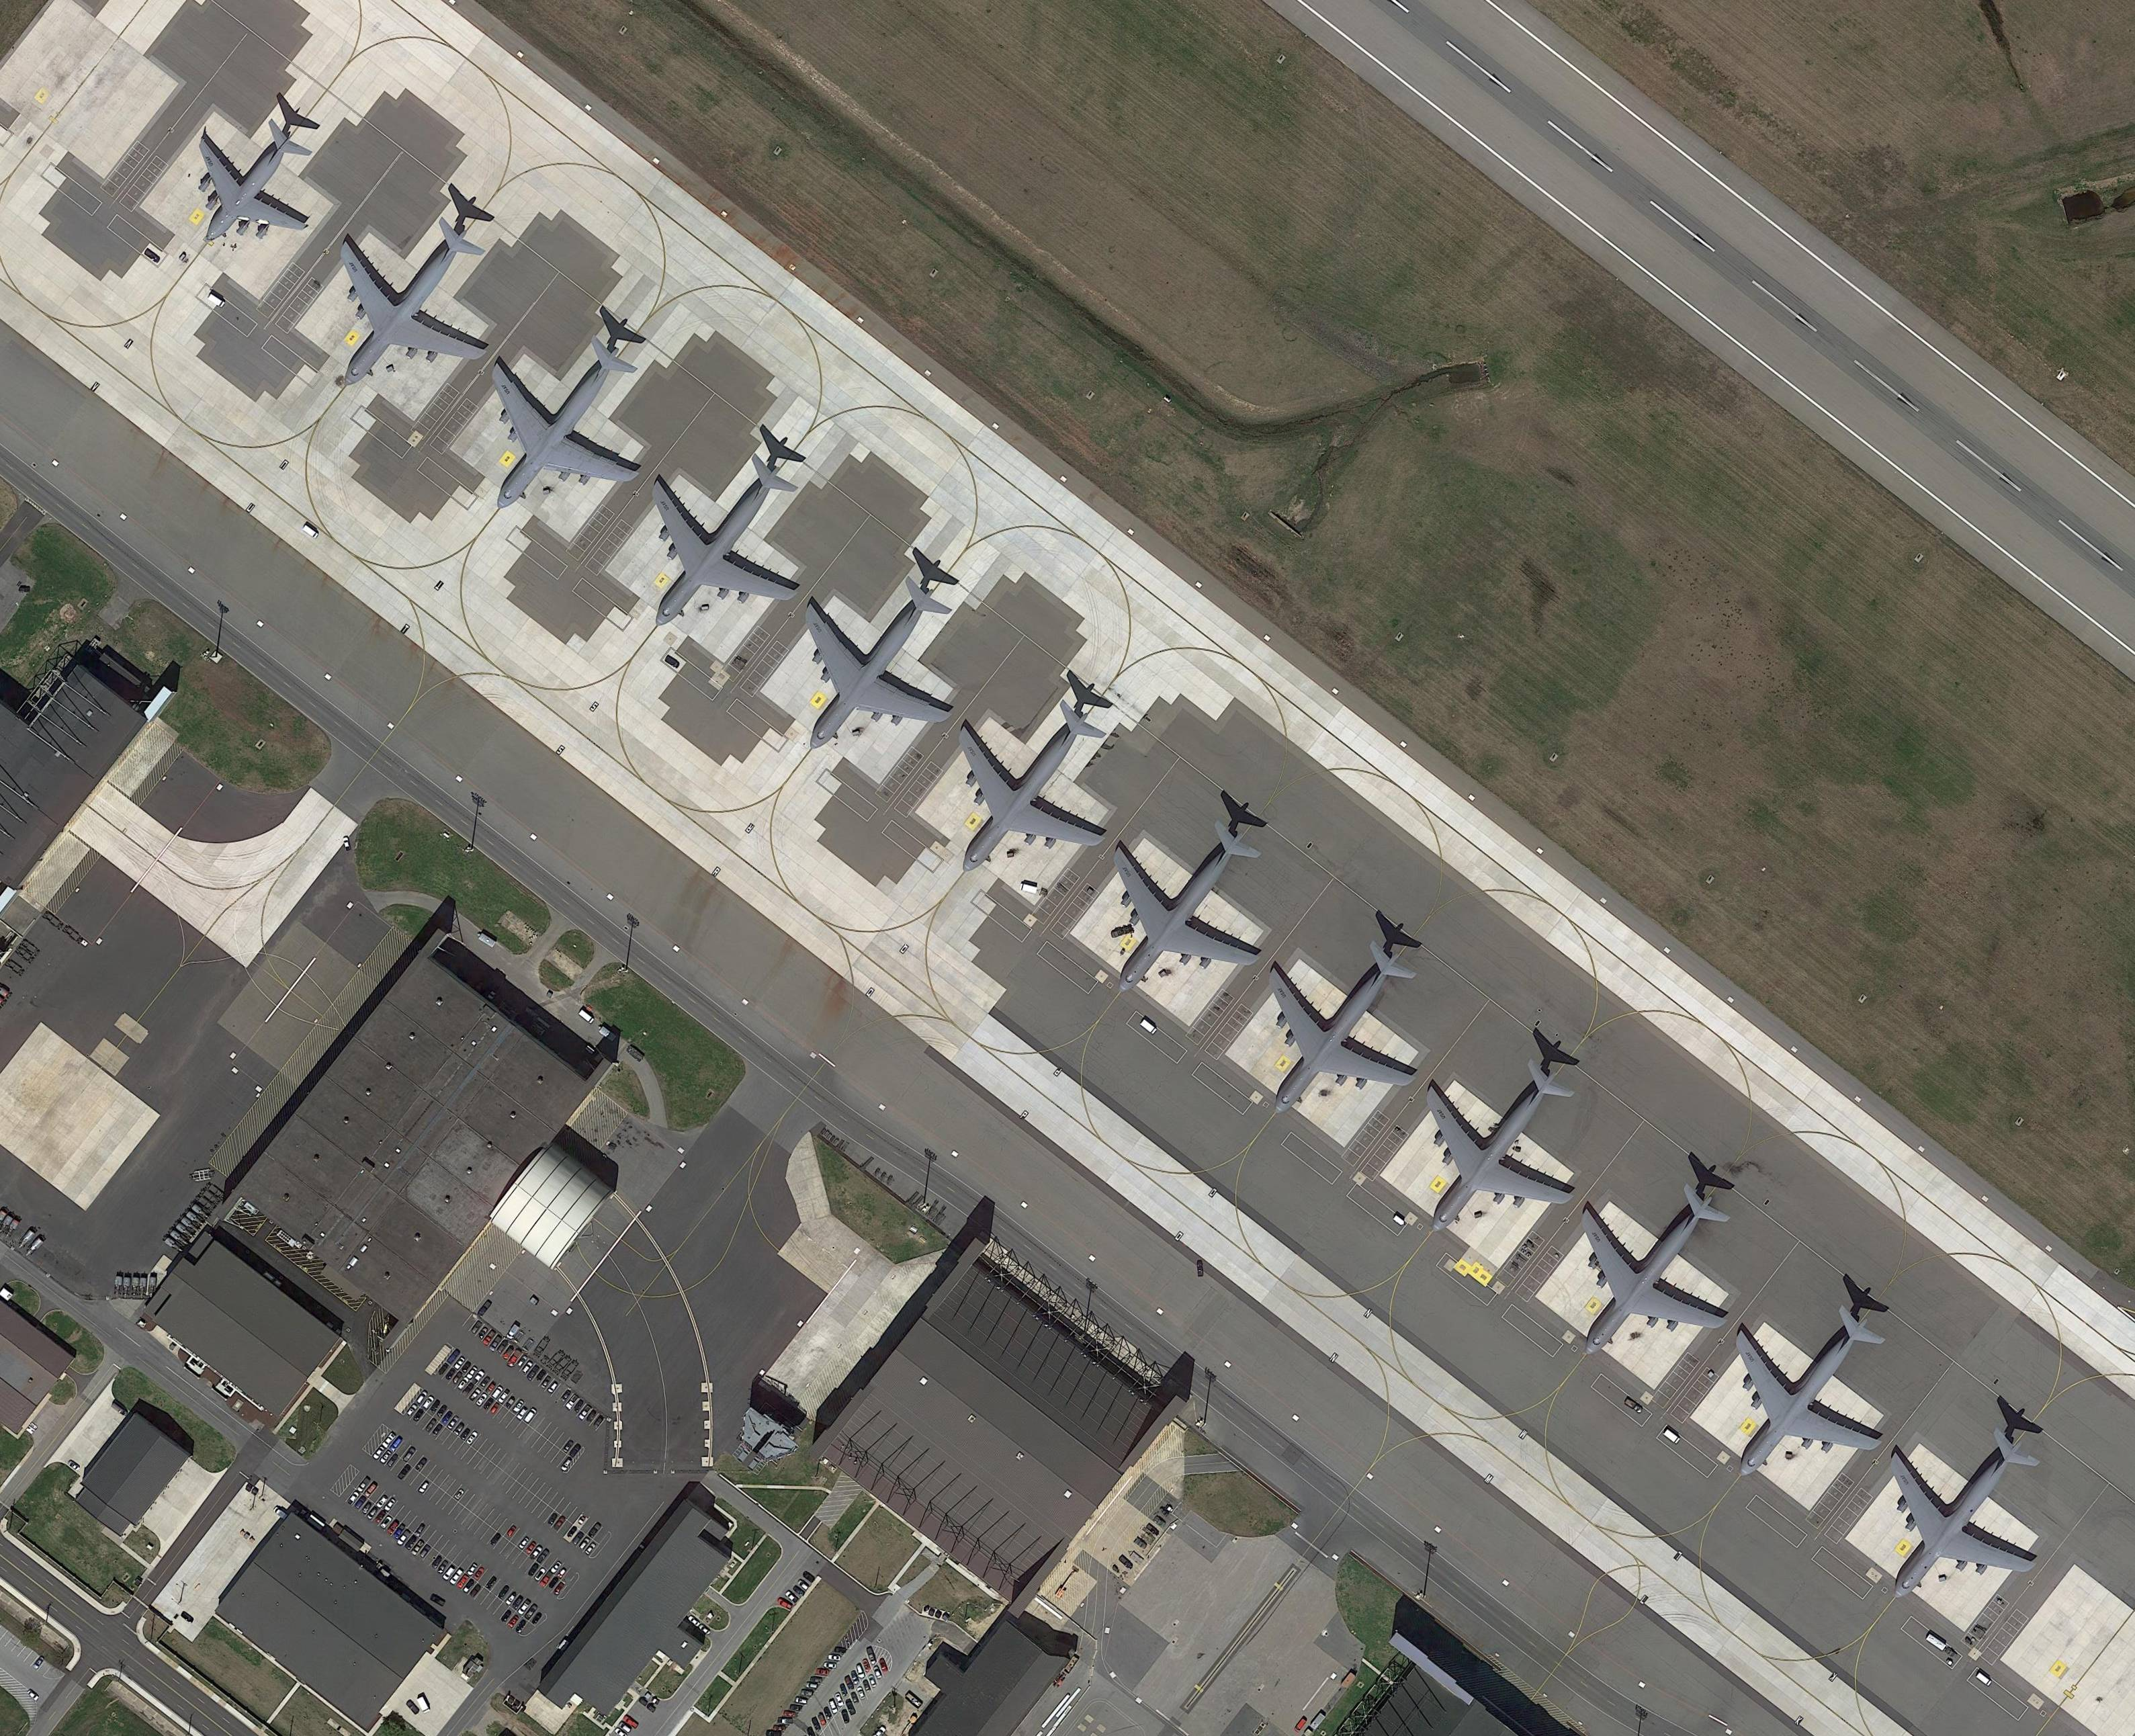plane: (893, 654, 1166, 930), (1518, 1135, 1784, 1414), (429, 289, 698, 562), (1676, 1256, 1942, 1529), (1049, 774, 1315, 1047), (1821, 1383, 2094, 1647), (1363, 1015, 1628, 1284), (1207, 893, 1469, 1166), (590, 413, 845, 689), (741, 540, 1006, 804), (275, 181, 532, 438), (147, 81, 349, 287)
